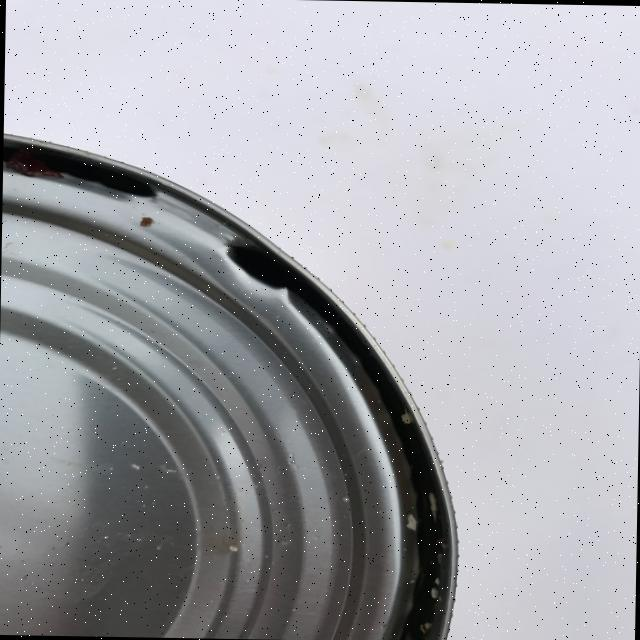metal: (0, 131, 467, 640)
